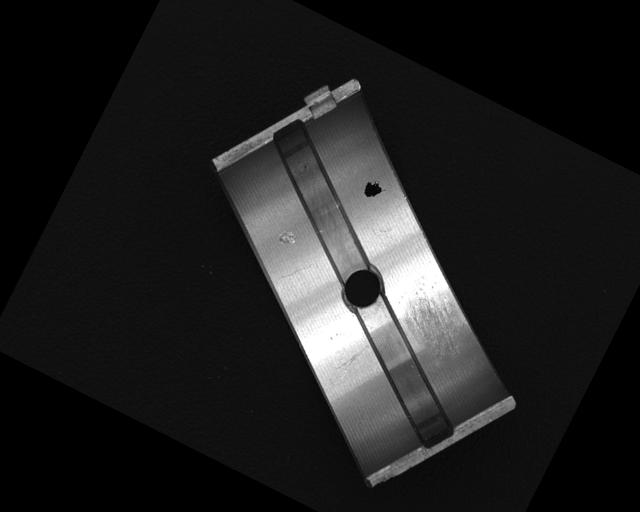blot: (360, 176, 386, 203)
bruise: (274, 225, 299, 249)
gap: (236, 119, 409, 284), (321, 301, 488, 456)
hole: (334, 260, 391, 317)
nick: (333, 334, 370, 383), (281, 253, 314, 288)
scratch: (385, 268, 487, 366)
